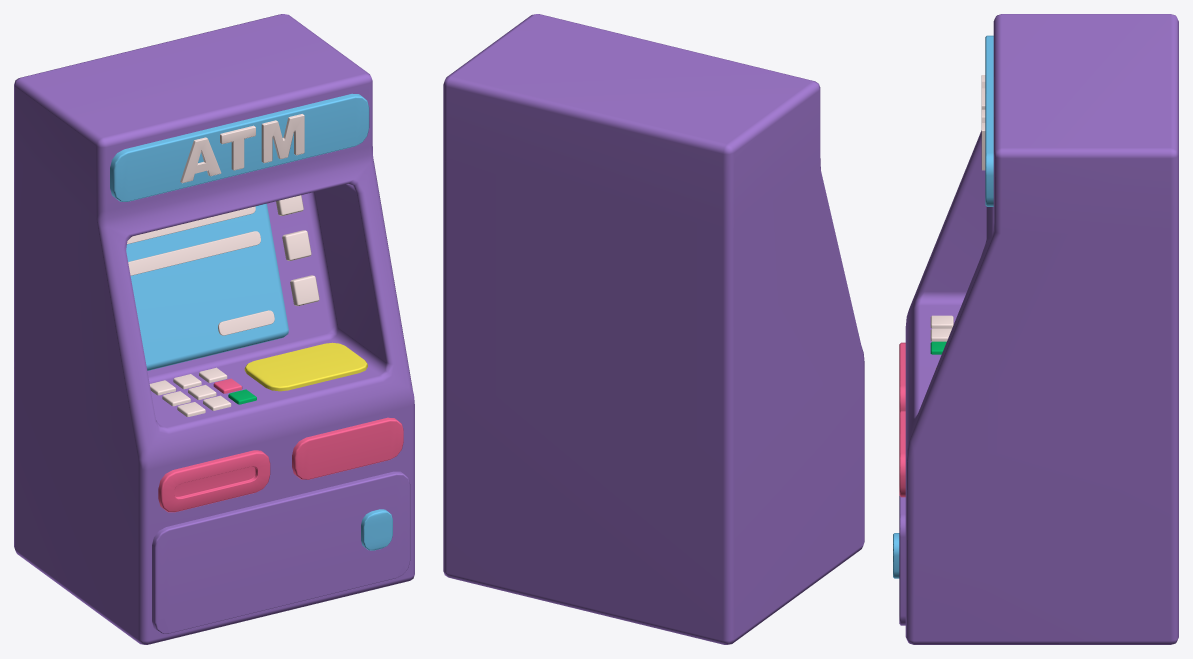
File: Public_1_ATM_1.glb
The picture shows the model from 3 angles, left to right: view 1: azimuth 30°, elevation 25°; view 2: azimuth 150°, elevation 25°; view 3: azimuth 270°, elevation 25°; orthographic projection. The views are drawn at different scales.
Visible parts, largest first — view 1: Public_1_ATM_1; view 2: Public_1_ATM_1; view 3: Public_1_ATM_1.
Boxes of the visible parts, left/top/right/bottom form: Public_1_ATM_1: left=14, top=14, right=414, bottom=644; Public_1_ATM_1: left=443, top=14, right=864, bottom=644; Public_1_ATM_1: left=893, top=14, right=1178, bottom=644.
Bounding box in the file's own units: 2.64 × 4.36 × 2.28.
1 material, 1 textured.
